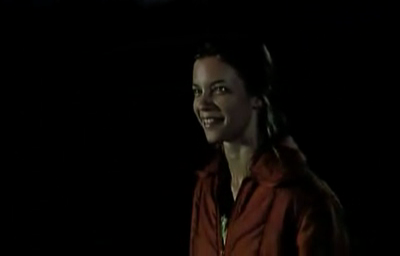face: (193, 68, 236, 143)
mcu: (1, 1, 400, 256)
person: (189, 35, 363, 256)
